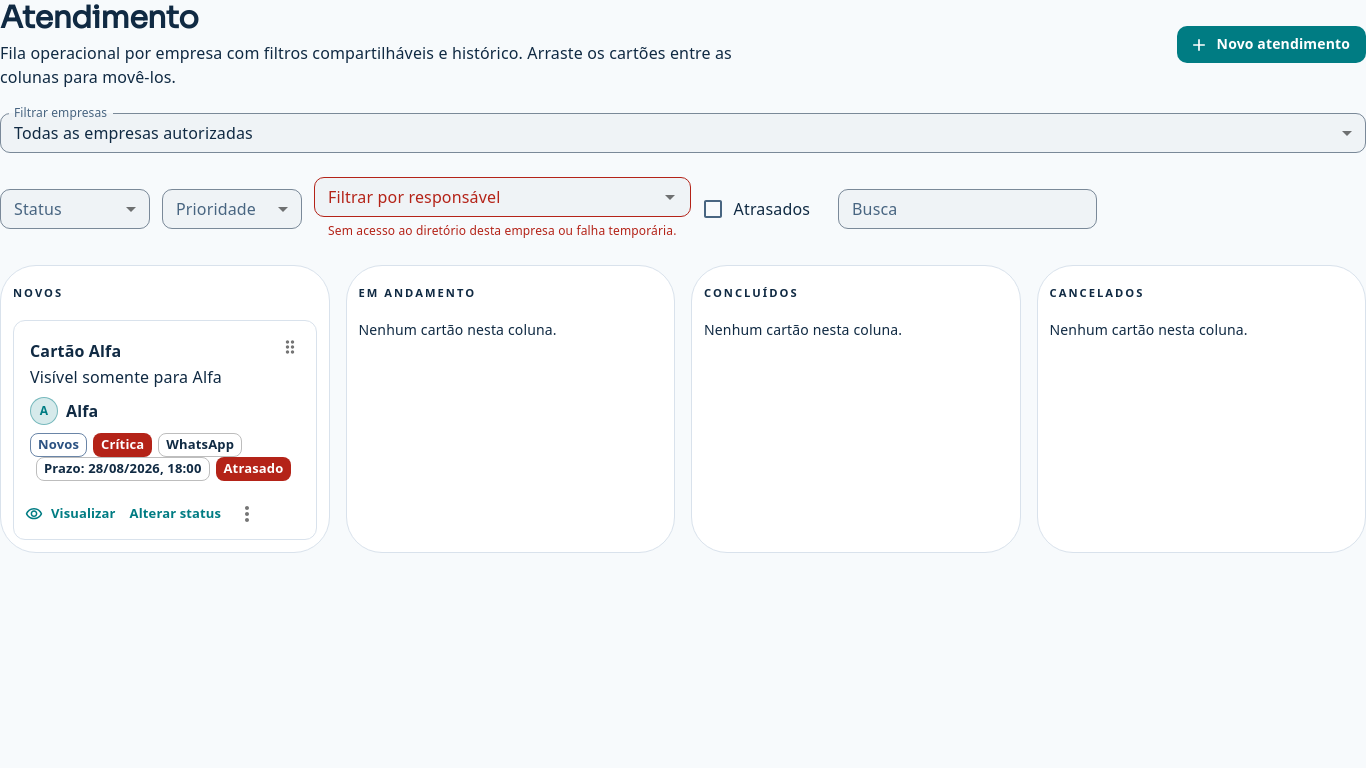
Test: AtendimentoPage › shows closed priority and channel labels, localized SLA, and server-authorized overdue state
Check: the text "Crítica" is shown, box [101,435,144,453]
Check: the text "WhatsApp" is shown, box [166,435,234,453]
Click the button "Visualizar".
click(71, 514)  # box [22,498,121,529]
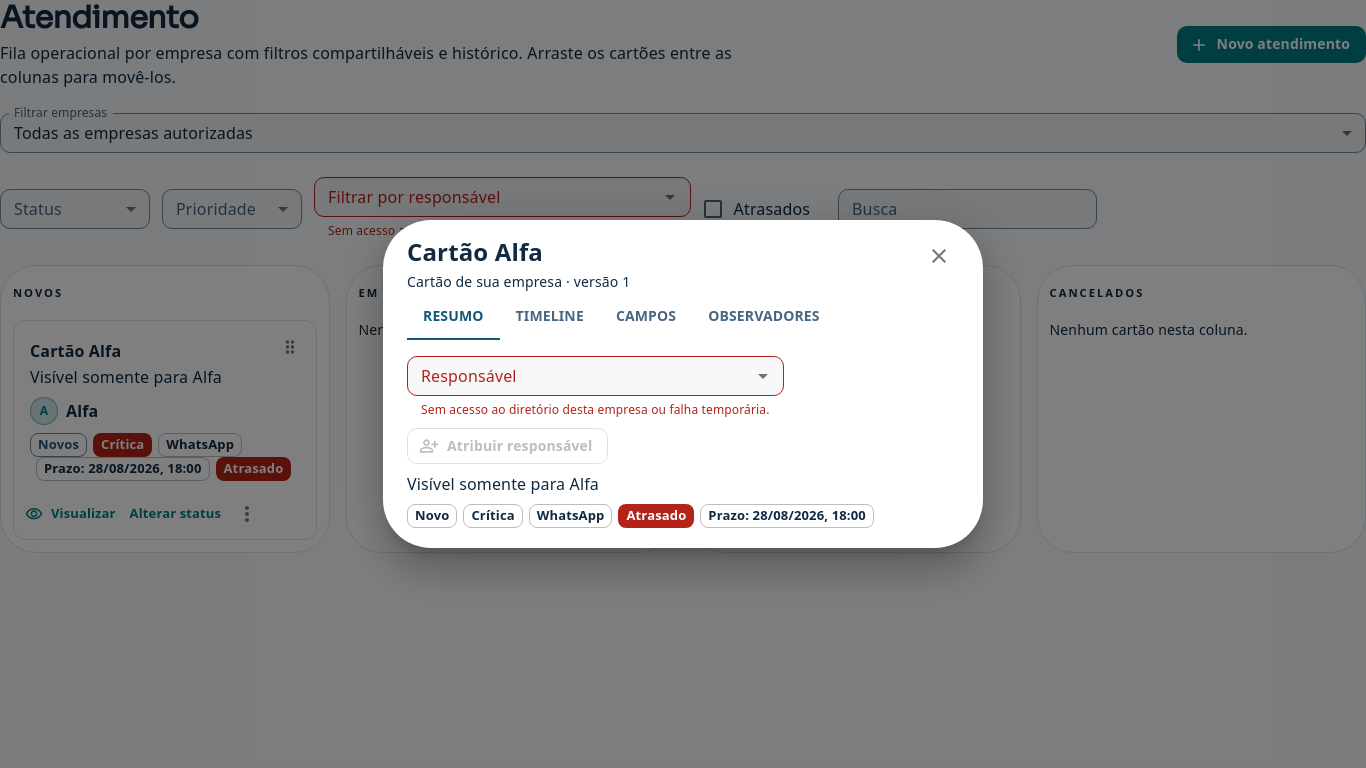
Check: the text "Crítica" is shown, box [471,506,515,524]
Check: the text "WhatsApp" is shown, box [537,506,604,524]
Check: the text "Atrasado" is shown, box [626,506,686,524]
